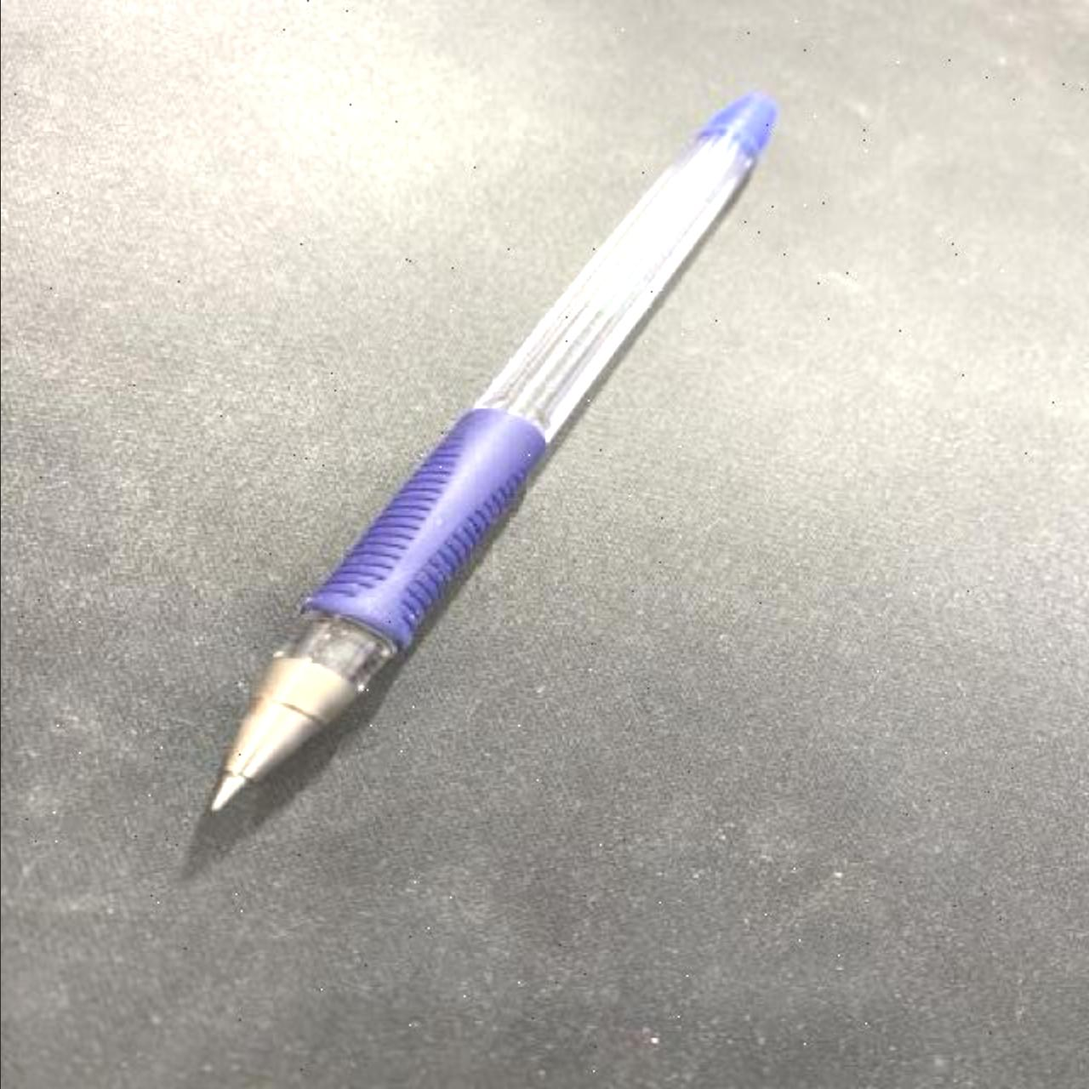pen: (204, 88, 793, 815)
